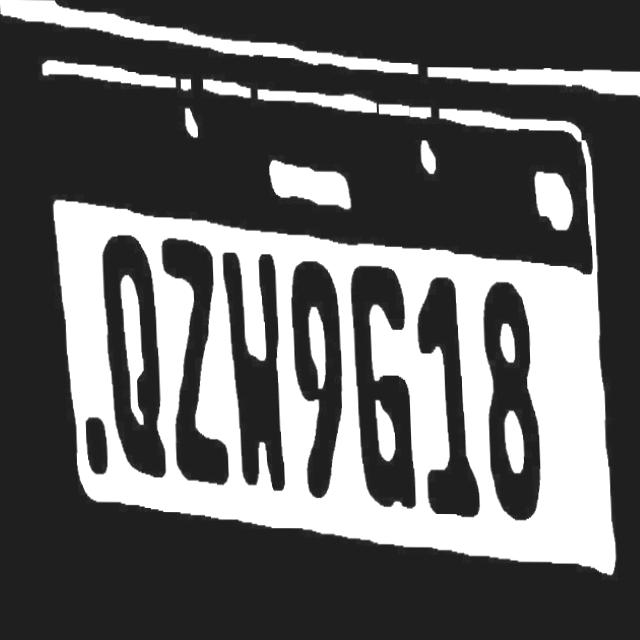1: (408, 272, 477, 521)
8: (479, 280, 540, 525)
9: (284, 253, 343, 504)
g: (347, 260, 412, 516)
q: (97, 226, 163, 480)
w: (219, 249, 283, 498)
z: (157, 236, 228, 486)
